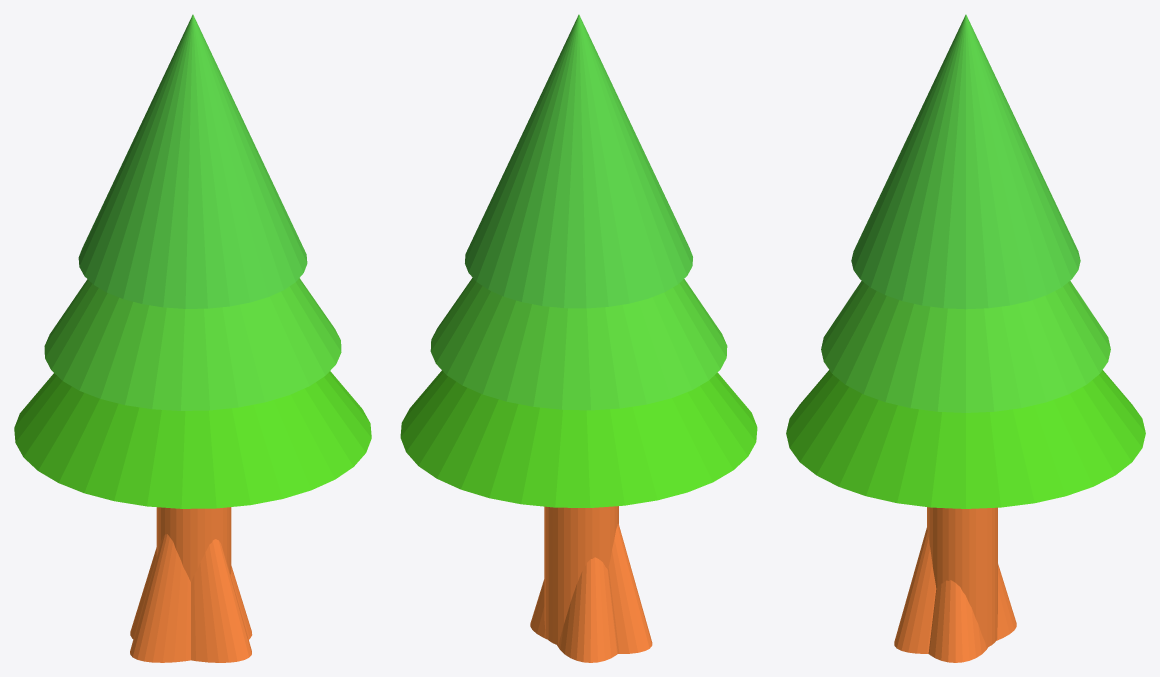
Rendered from Tree.fbx.
3 views of the same model, side by side, from view 1: azimuth 30°, elevation 25°; view 2: azimuth 150°, elevation 25°; view 3: azimuth 270°, elevation 25° (orthographic).
Parts seen in each view (by area): view 1: Cone; view 2: Cone; view 3: Cone.
Part boxes in pixels (x1,y1,x2,y2): Cone: (14, 14, 371, 662); Cone: (400, 14, 757, 662); Cone: (786, 14, 1145, 662).
Bounding box in the file's own units: 312 × 600 × 314.
